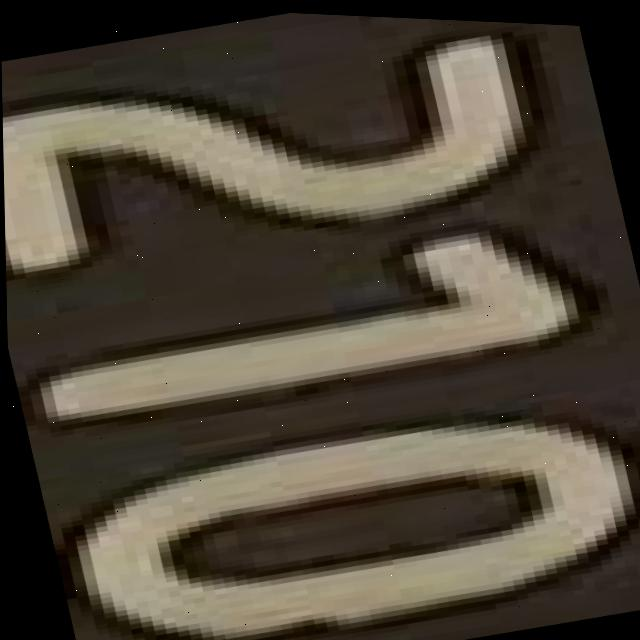character: (0, 0, 564, 318), (34, 349, 640, 640), (4, 174, 609, 462)
